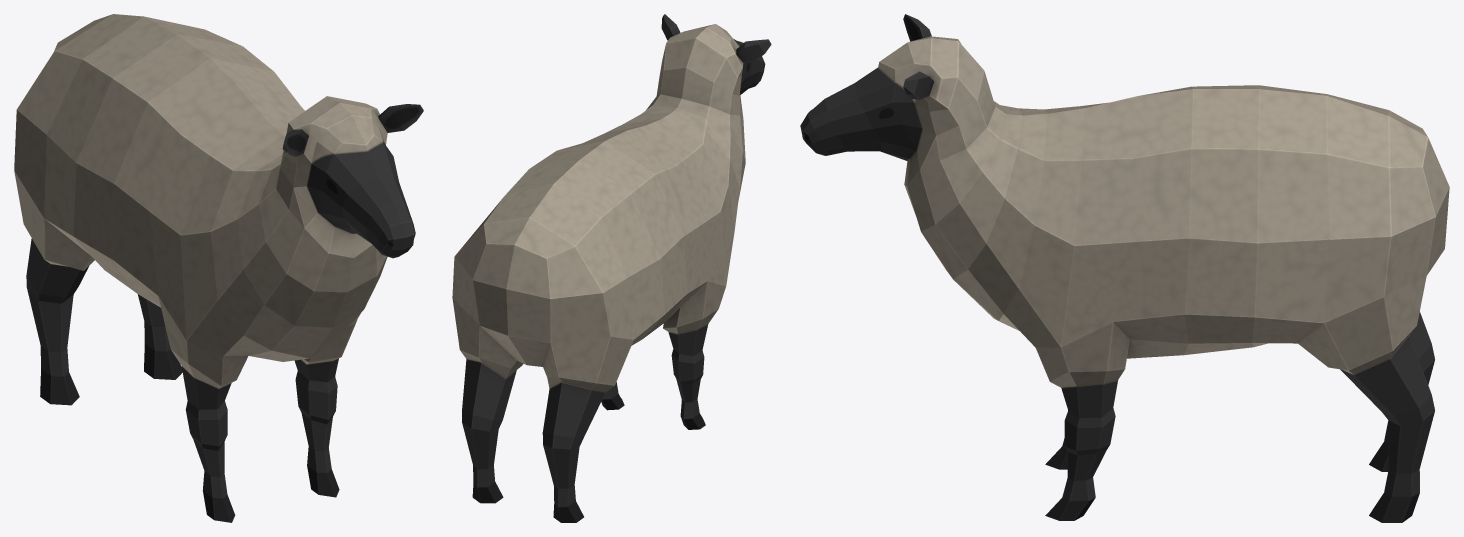
Rendered from Sheep_Zaupelschaf.obj.
3 views of the same model, side by side, from view 1: azimuth 30°, elevation 25°; view 2: azimuth 150°, elevation 25°; view 3: azimuth 270°, elevation 25° (orthographic). The views are drawn at different scales.
Parts seen in each view (by area): view 1: Sheep_mesh; view 2: Sheep_mesh; view 3: Sheep_mesh.
Boxes of the visible parts, x1,y1,x2,y2 form: Sheep_mesh: (14,14,423,522); Sheep_mesh: (452,14,771,522); Sheep_mesh: (800,14,1449,522).
Bounding box in the file's own units: 2.46 × 4.93 × 6.42.
